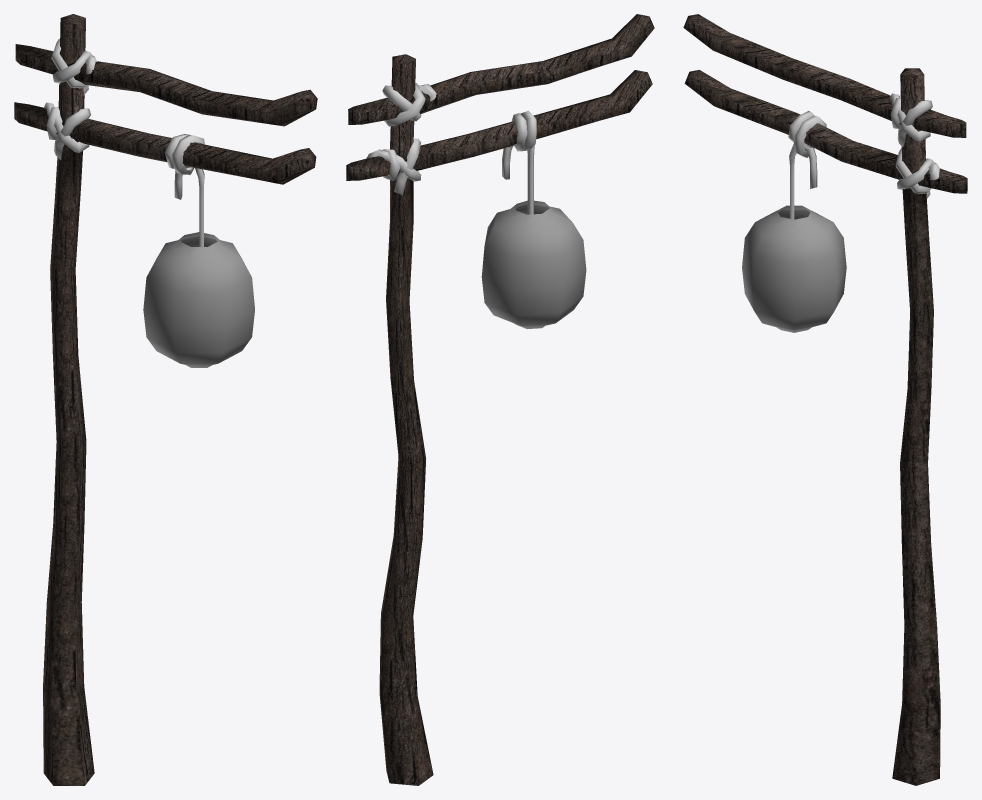
Rendered from farol.FBX.
3 views of the same model, side by side, from view 1: azimuth 90°, elevation 25°; view 2: azimuth 150°, elevation 25°; view 3: azimuth 270°, elevation 25° (orthographic). The views are drawn at different scales.
Parts seen in each view (by area): view 1: Object001, Cylinder001; view 2: Object001, Cylinder001; view 3: Object001, Cylinder001.
Boxes of the visible parts, x1,y1,x2,y2 form: Object001: (14,14,317,785); Cylinder001: (44,39,254,367); Object001: (346,14,654,785); Cylinder001: (366,83,586,328); Object001: (683,14,967,785); Cylinder001: (742,93,939,332).
Bounding box in the file's own units: 45.55 × 183 × 66.29.
